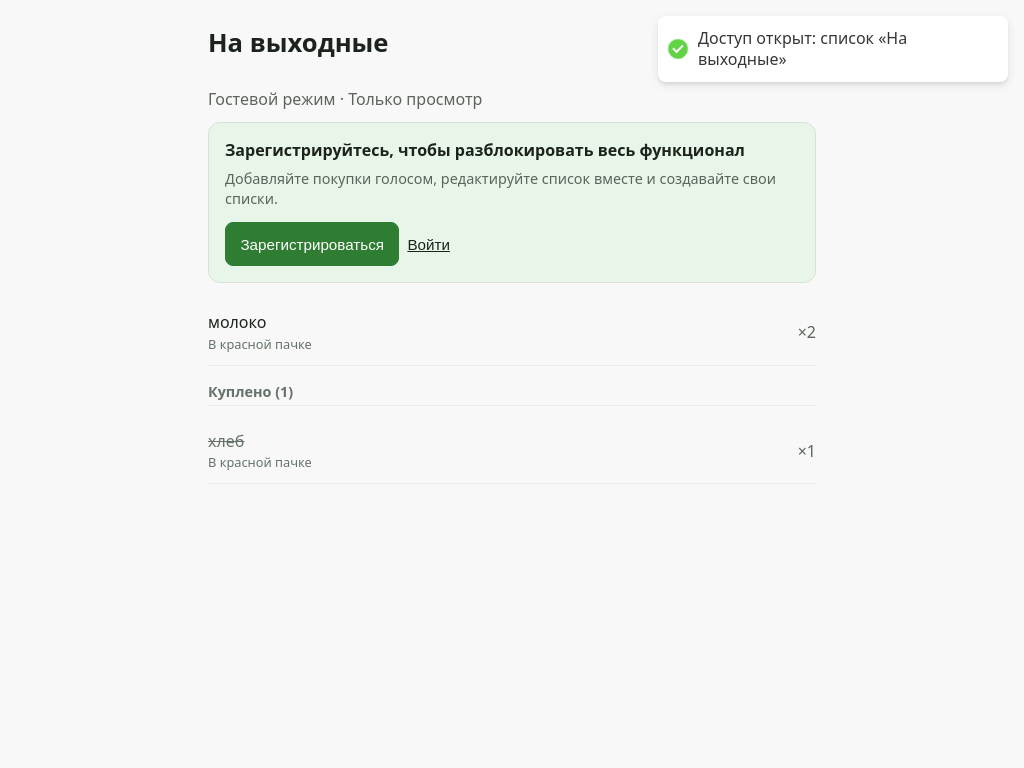
it: guest invitation › continues from Войти into the same shared list
Check: the text "молоко" is shown, box [208,311,266,333]
Click the button "Войти" at (429,244), box [407,236,450,253]
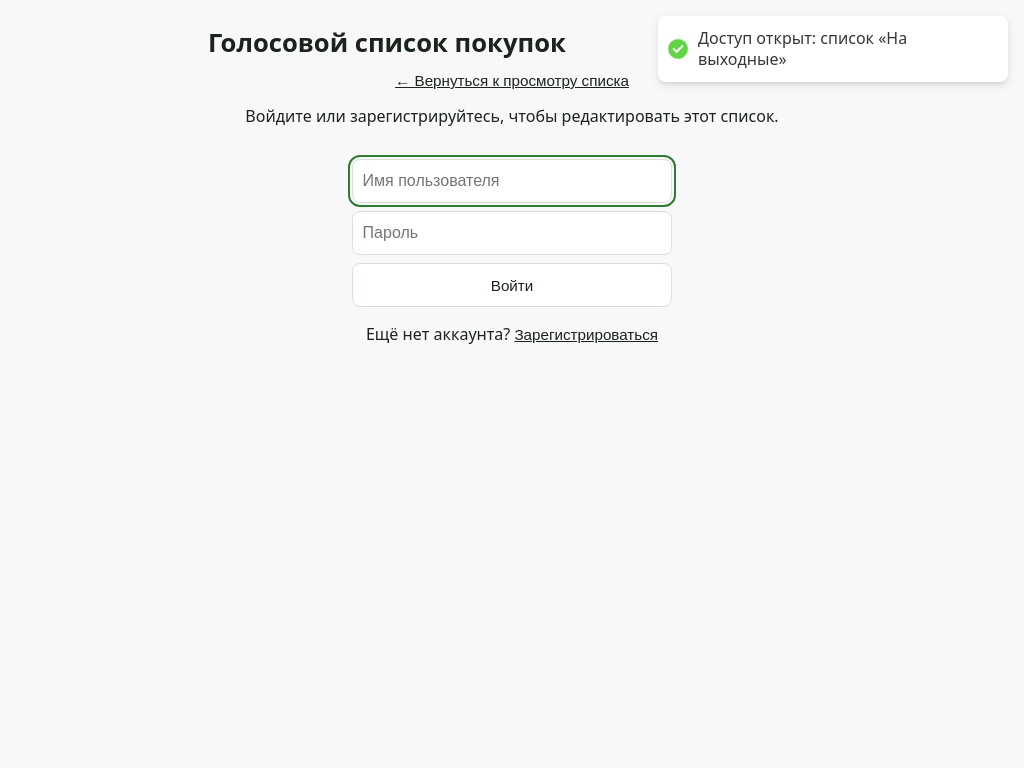
Type "ann" into the field labelled "Имя пользователя" at (512,181), box [352,159,672,203]
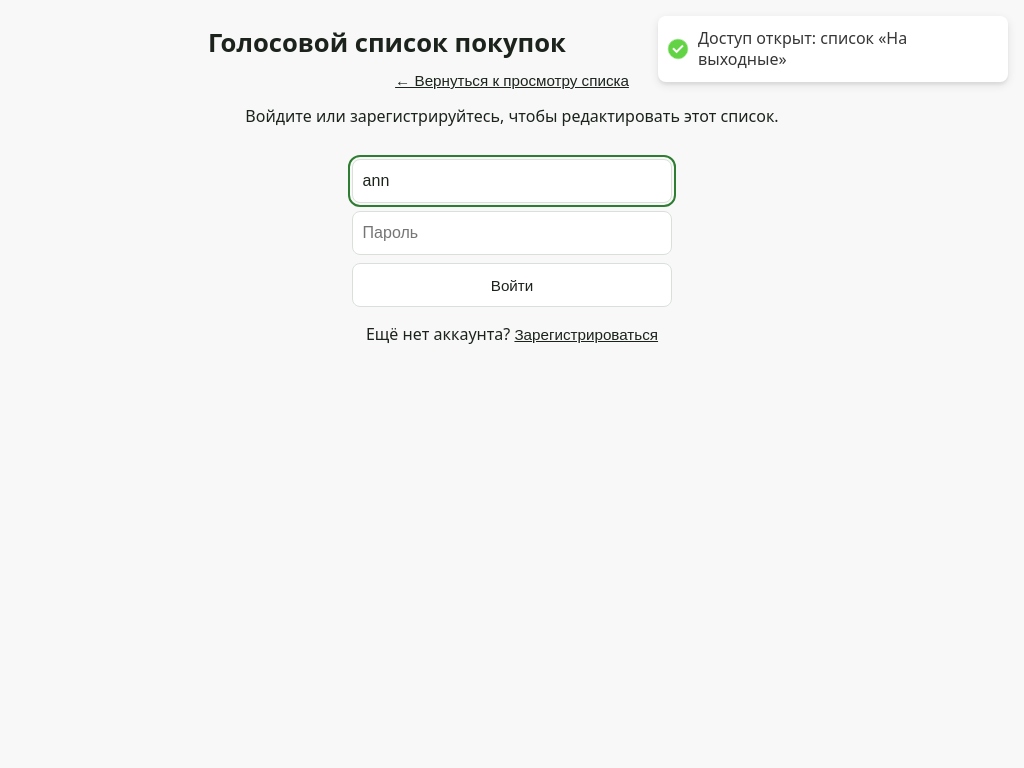
Type "password123" into the password field labelled "Пароль" at (512,233), box [352,211,672,255]
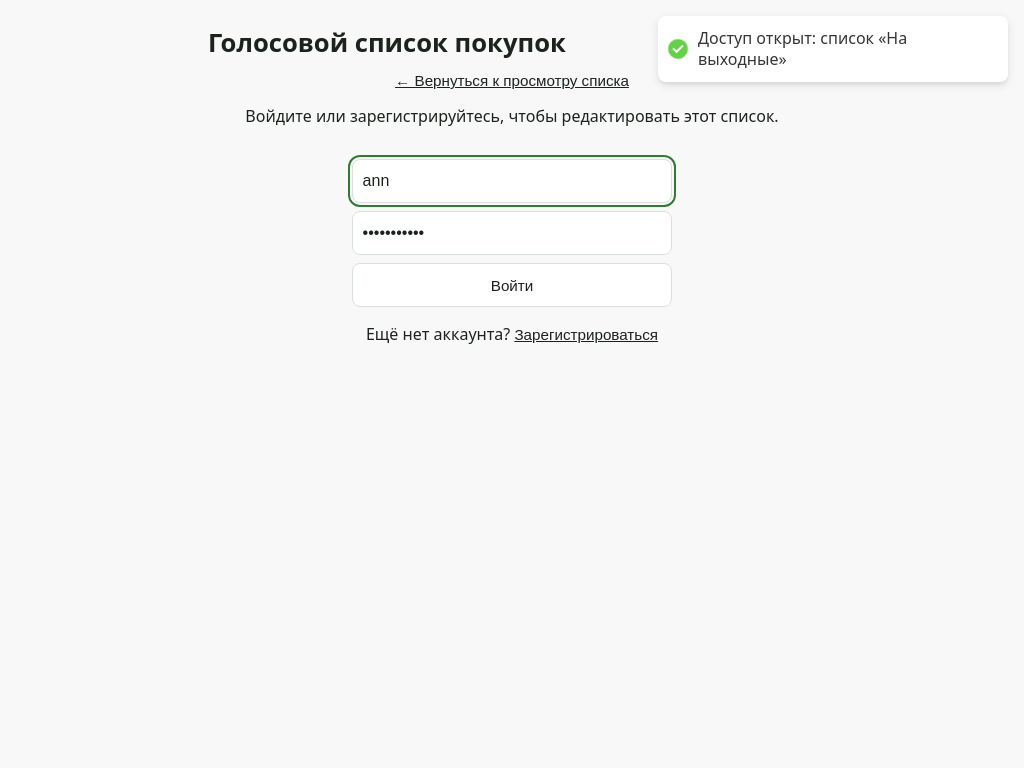
Submit the form "Войти", box [352,159,672,307]
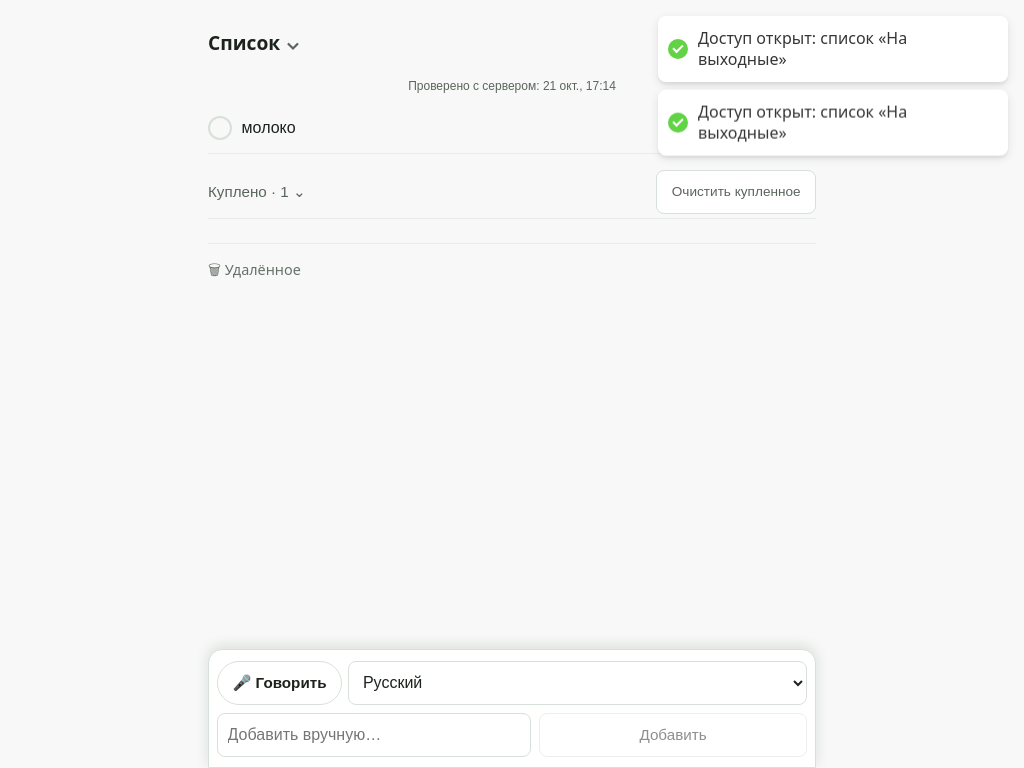
Check: the text "Гостевой режим · Только просмотр" is not shown
Check: the field with placeholder "Добавить вручную…" is shown, box [217,713,531,757]
